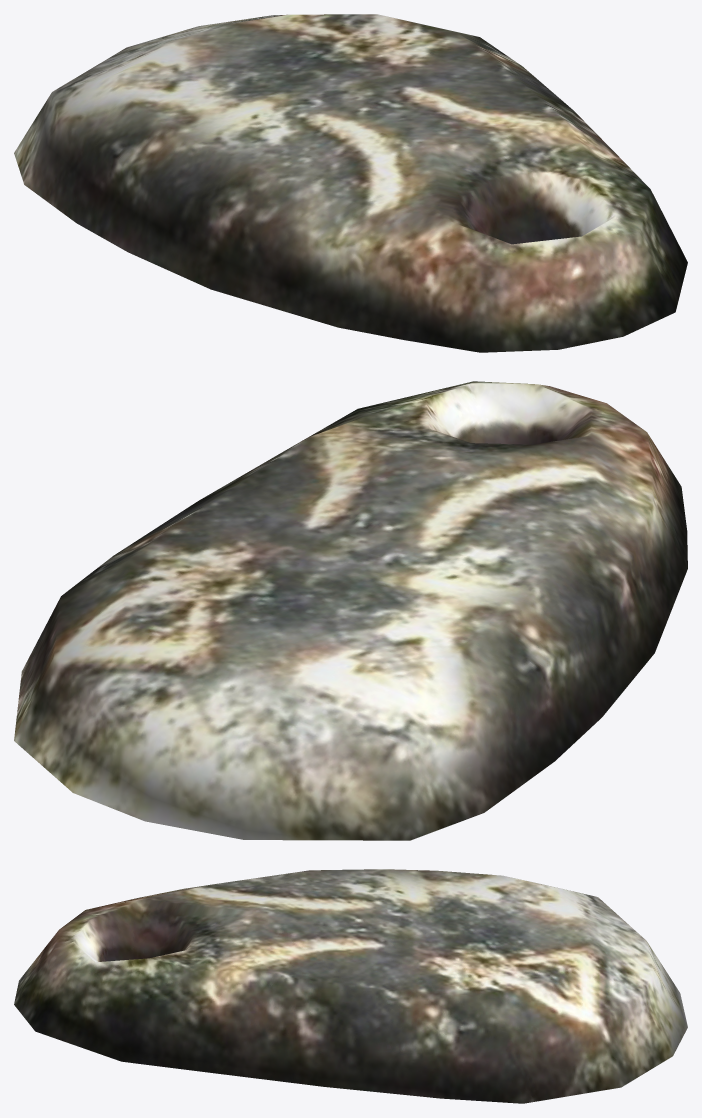
File: yibiqian.glb
The picture shows the model from 3 angles, top to bottom: view 1: azimuth 30°, elevation 25°; view 2: azimuth 150°, elevation 25°; view 3: azimuth 270°, elevation 25°; orthographic projection. The views are drawn at different scales.
Visible parts, largest first — view 1: AntNoseCoin; view 2: AntNoseCoin; view 3: AntNoseCoin.
Boxes of the visible parts, x1,y1,x2,y2 form: AntNoseCoin: [14, 14, 687, 352]; AntNoseCoin: [14, 381, 687, 840]; AntNoseCoin: [14, 869, 687, 1103].
Bounding box in the file's own units: 0.0574 × 0.0162 × 0.0916.
1 material, 1 textured.
